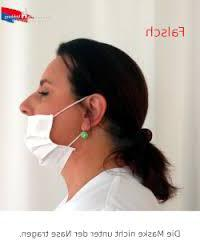mask_weared_incorrect: (16, 77, 67, 175)
